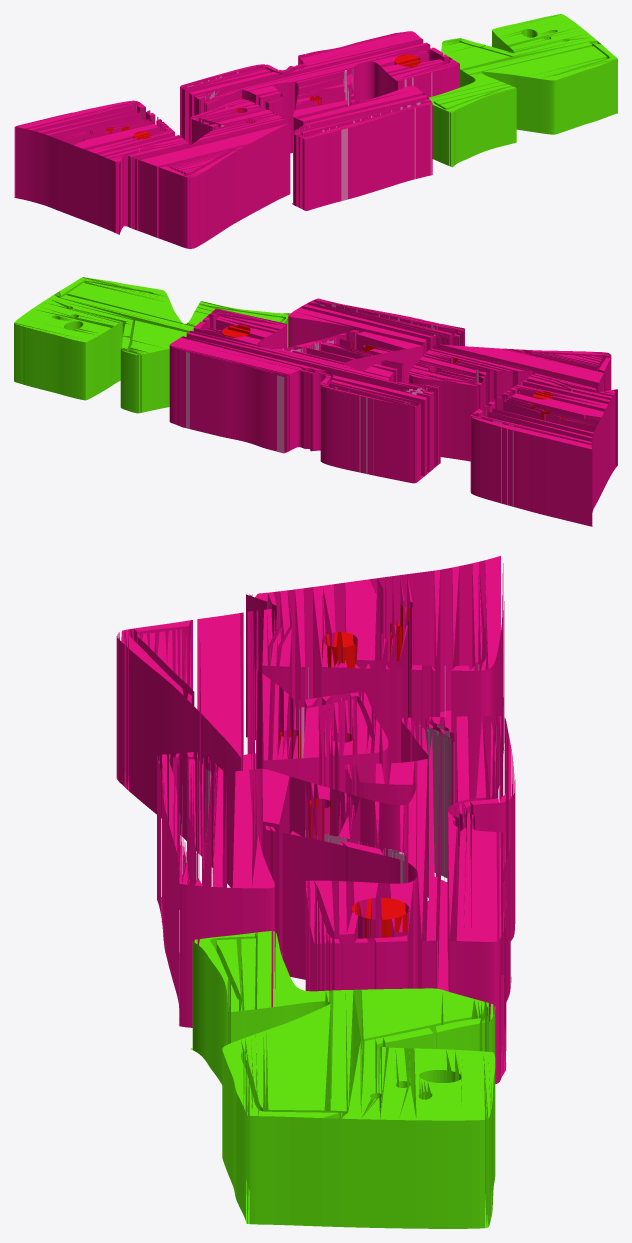
File: LTN.fbx
3 renders of one model, top to bottom at view 1: azimuth 30°, elevation 25°; view 2: azimuth 150°, elevation 25°; view 3: azimuth 270°, elevation 25°, orthographic. The views are drawn at different scales.
Visible parts, largest first — view 1: path0, path1, path3, path2; view 2: path0, path1, path3, path2; view 3: path0, path1, path3, path2.
Boxes of the visible parts, x1=… form: path0: x1=14, y1=31, x2=459, y2=248; path1: x1=428, y1=14, x2=617, y2=167; path3: x1=98, y1=47, x2=432, y2=228; path2: x1=91, y1=54, x2=420, y2=139; path0: x1=169, y1=298, x2=617, y2=526; path1: x1=14, y1=277, x2=290, y2=413; path3: x1=186, y1=304, x2=603, y2=509; path2: x1=222, y1=325, x2=565, y2=424; path0: x1=116, y1=556, x2=515, y2=1083; path1: x1=190, y1=931, x2=495, y2=1228; path3: x1=161, y1=602, x2=511, y2=1066; path2: x1=279, y1=605, x2=409, y2=938.
Size of the model in its own units: 27.59 by 3.45 by 8.74.
